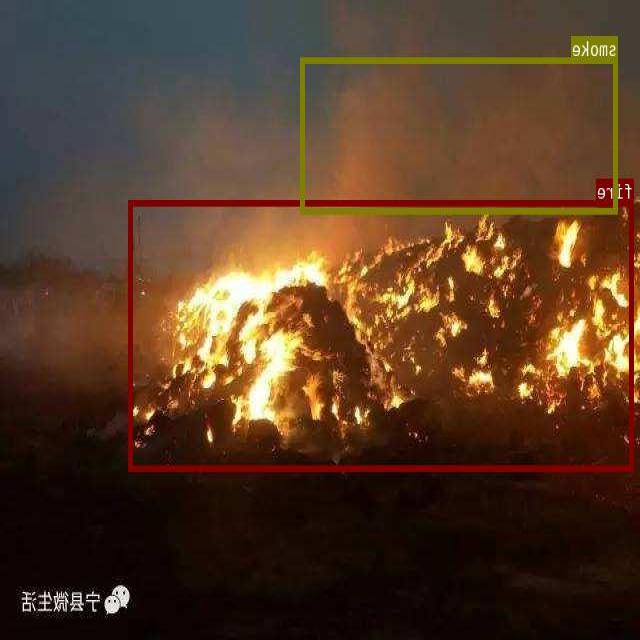fire: (129, 200, 635, 470)
smoke: (301, 56, 619, 213)
